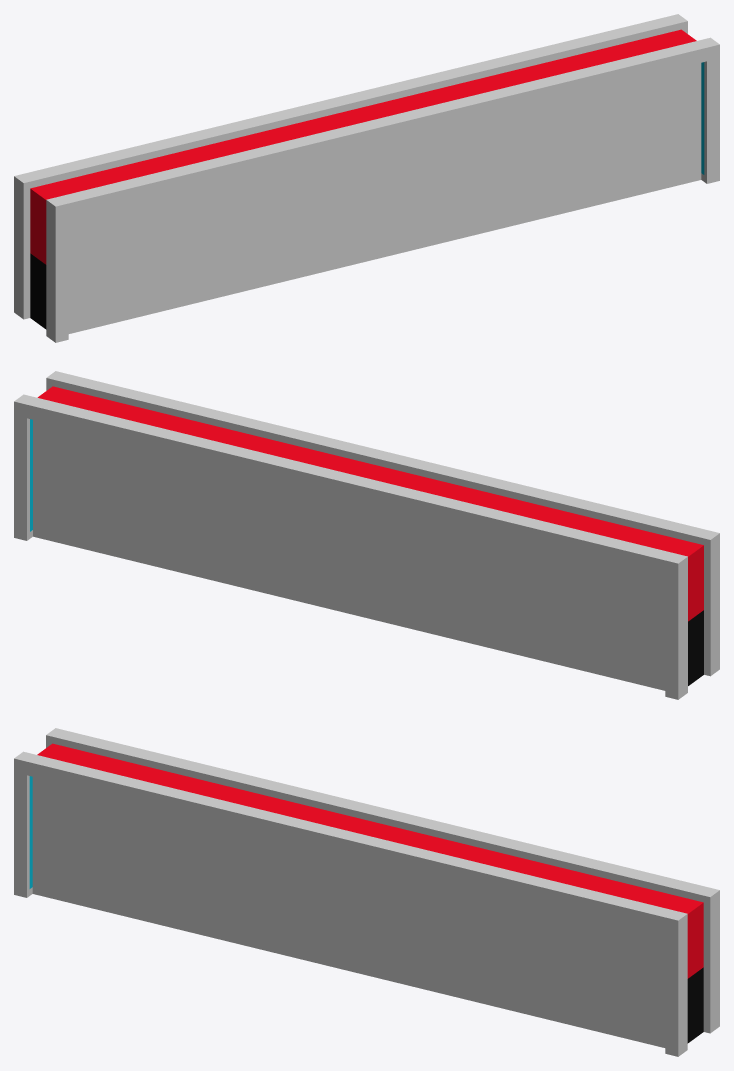
The model's file is SlotMachineWall.fbx.
3 renders of one model, top to bottom at view 1: azimuth 30°, elevation 25°; view 2: azimuth 150°, elevation 25°; view 3: azimuth 330°, elevation 25°, orthographic.
Parts seen in each view (by area): view 1: Cube; view 2: Cube; view 3: Cube.
Boxes of the visible parts, x1,y1,x2,y2 form: Cube: (14, 14, 719, 342); Cube: (14, 371, 719, 699); Cube: (14, 728, 719, 1056).
Size of the model in its own units: 10200 by 2000 by 1108.
